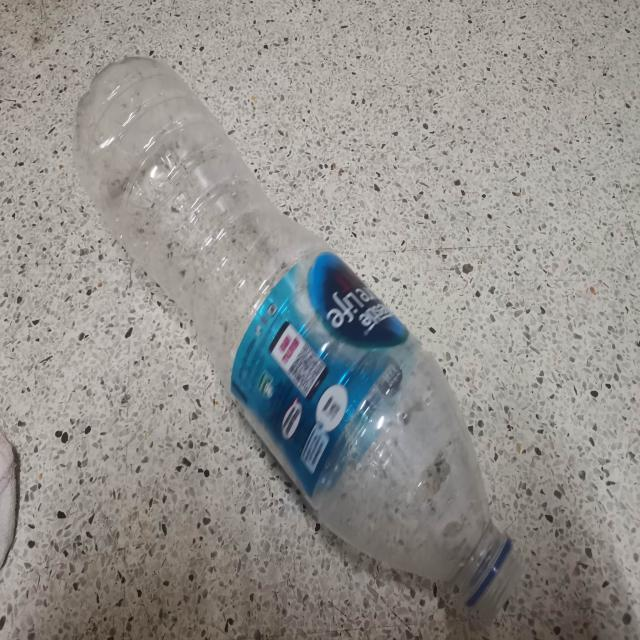plastic_bottle: (76, 57, 524, 620)
